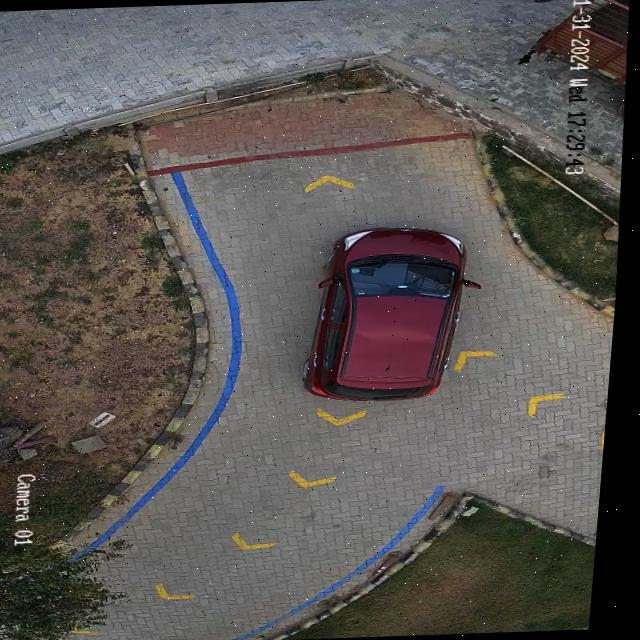car: (309, 227, 483, 401)
